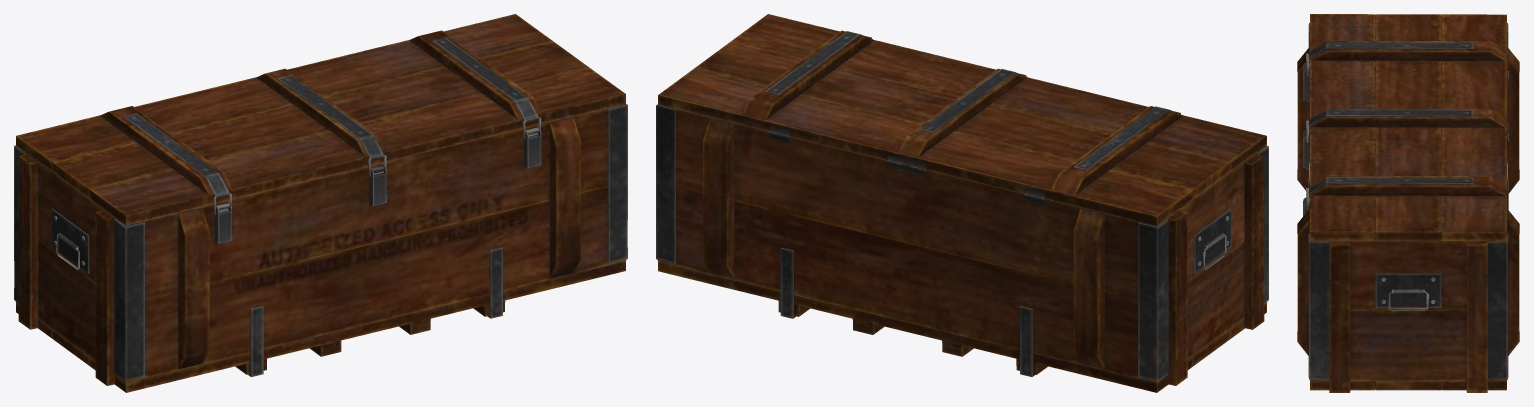
File: wooden_military_crate_1k.gltf.lod.glb
3 views of the same model, side by side, from view 1: azimuth 30°, elevation 25°; view 2: azimuth 150°, elevation 25°; view 3: azimuth 270°, elevation 25° (orthographic). The views are drawn at different scales.
Parts seen in each view (by area): view 1: wooden_military_crate, wooden_military_crate_lid; view 2: wooden_military_crate, wooden_military_crate_lid; view 3: wooden_military_crate_lid, wooden_military_crate.
Boxes of the visible parts, <box> form: wooden_military_crate: <box>14,103,627,392</box>; wooden_military_crate_lid: <box>16,14,625,225</box>; wooden_military_crate: <box>656,104,1268,392</box>; wooden_military_crate_lid: <box>658,14,1266,225</box>; wooden_military_crate_lid: <box>1306,14,1509,240</box>; wooden_military_crate: <box>1297,23,1519,392</box>.
Bounding box in the file's own units: 1.24 × 0.4642 × 0.5171.
Materials: 1 (1 with a texture image).
